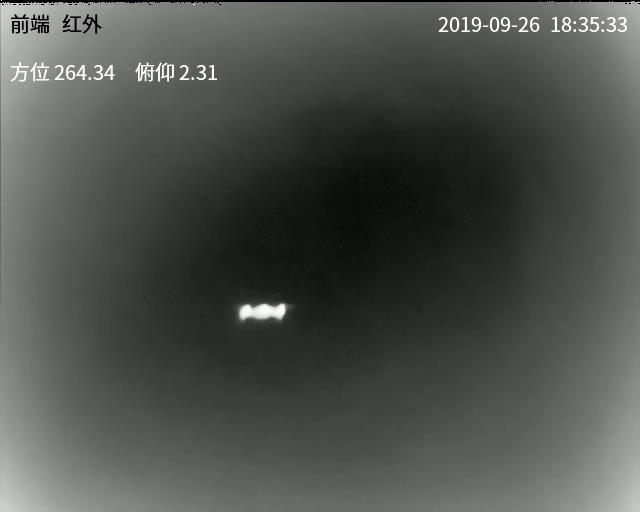uav: (229, 300, 295, 328)
